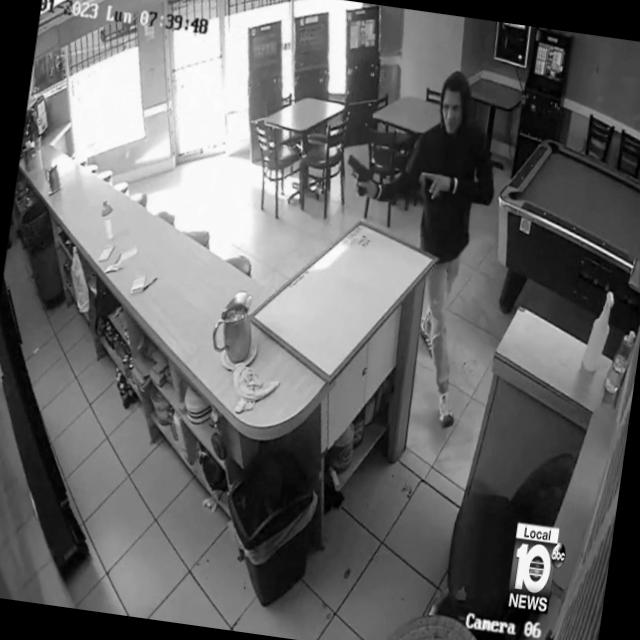gun: (342, 152, 377, 201)
person with a gun: (312, 57, 510, 430)
